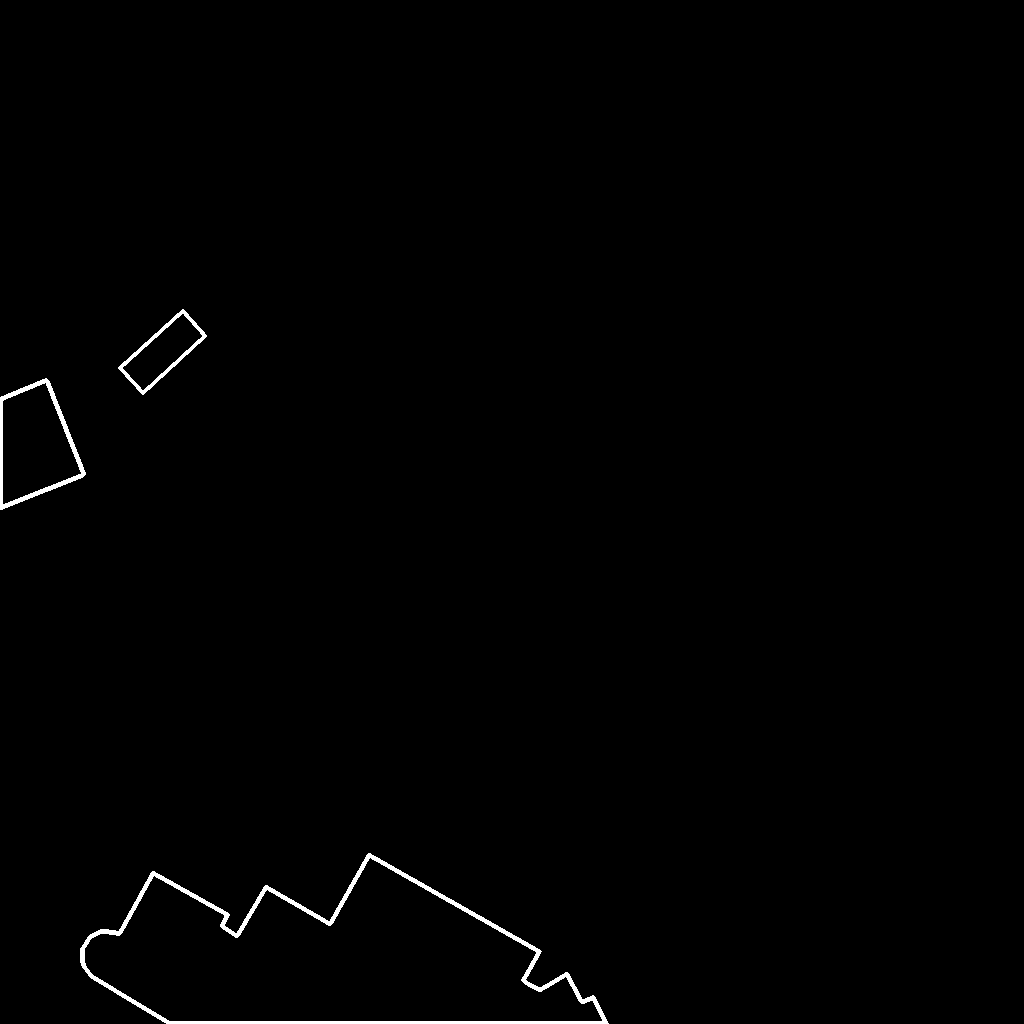building: (82, 855, 608, 1024), (0, 380, 85, 509), (120, 311, 206, 394)
